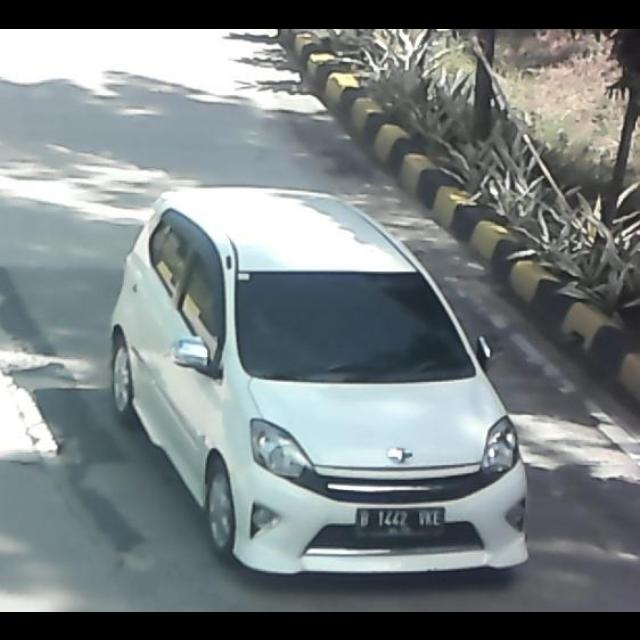plate: (353, 504, 447, 536)
